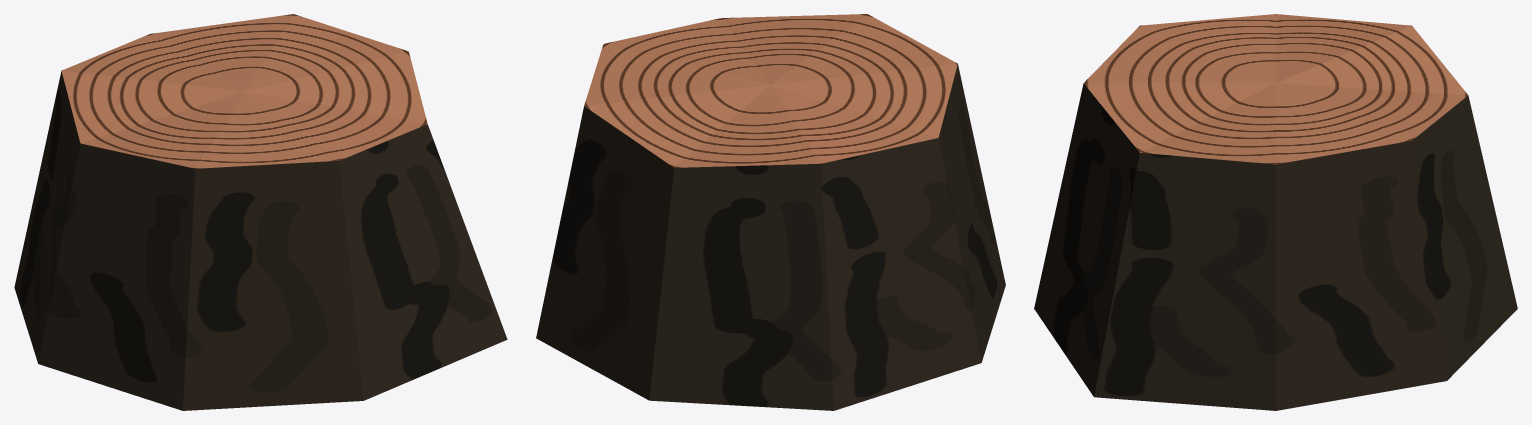
File: Stump.glb
The picture shows the model from 3 angles, left to right: view 1: azimuth 30°, elevation 25°; view 2: azimuth 150°, elevation 25°; view 3: azimuth 270°, elevation 25°; orthographic projection. The views are drawn at different scales.
Visible parts, largest first — view 1: Cylinder; view 2: Cylinder; view 3: Cylinder.
Boxes of the visible parts, left/top/right/bottom form: Cylinder: left=14, top=14, right=507, bottom=410; Cylinder: left=536, top=14, right=1005, bottom=410; Cylinder: left=1034, top=14, right=1517, bottom=410.
Size of the model in its own units: 2 by 1.04 by 2.
Materials: 2 (2 with a texture image).
